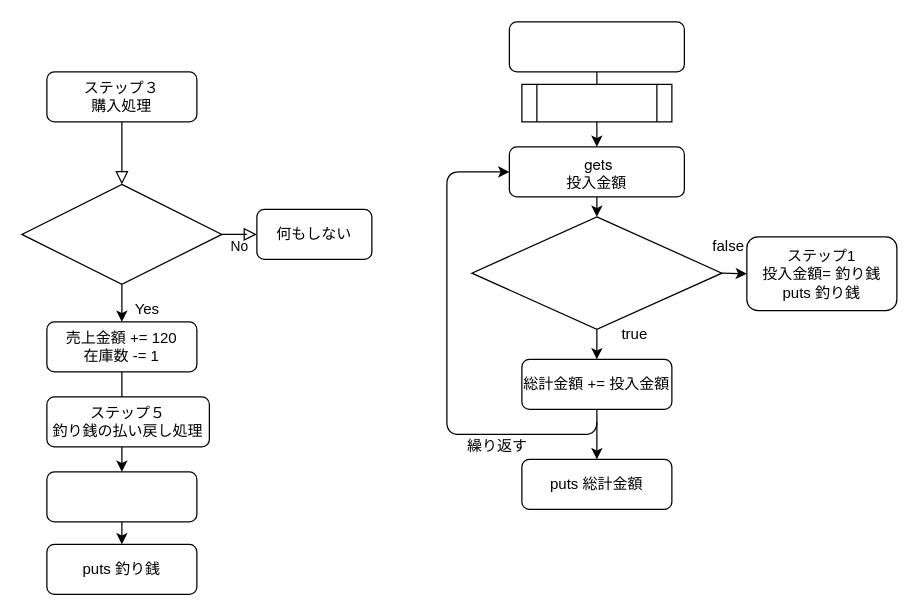
Image size: 919x616. Some labels were removed from this diagram. Each missing label, with the box of its shape:
i = 投入回数: (521, 83, 672, 122)
if 投入金額 が MONEYリストに 含まれるか: (471, 216, 722, 329)
if 総計金額 >= 120 在庫数 >= 1: (21, 183, 222, 284)
ステップ0 お金の投入と払い戻し: (508, 21, 684, 72)
釣り銭 = 総計金額 - 売上金額: (46, 471, 197, 522)
